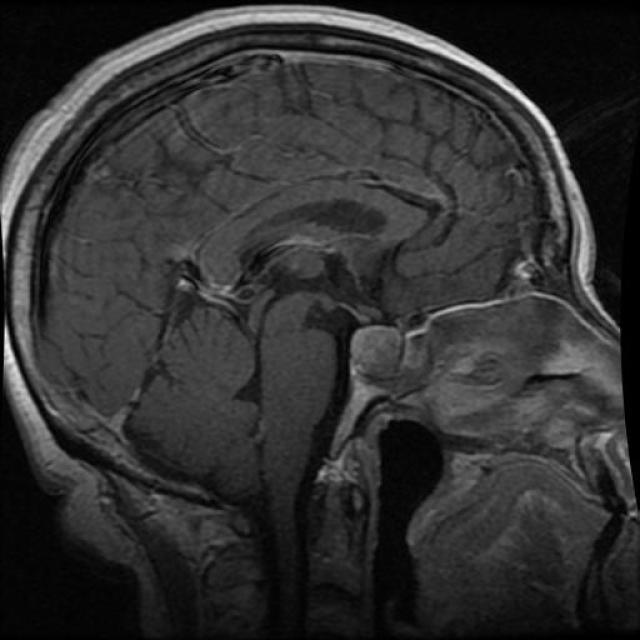pituitary: (318, 318, 403, 401)
